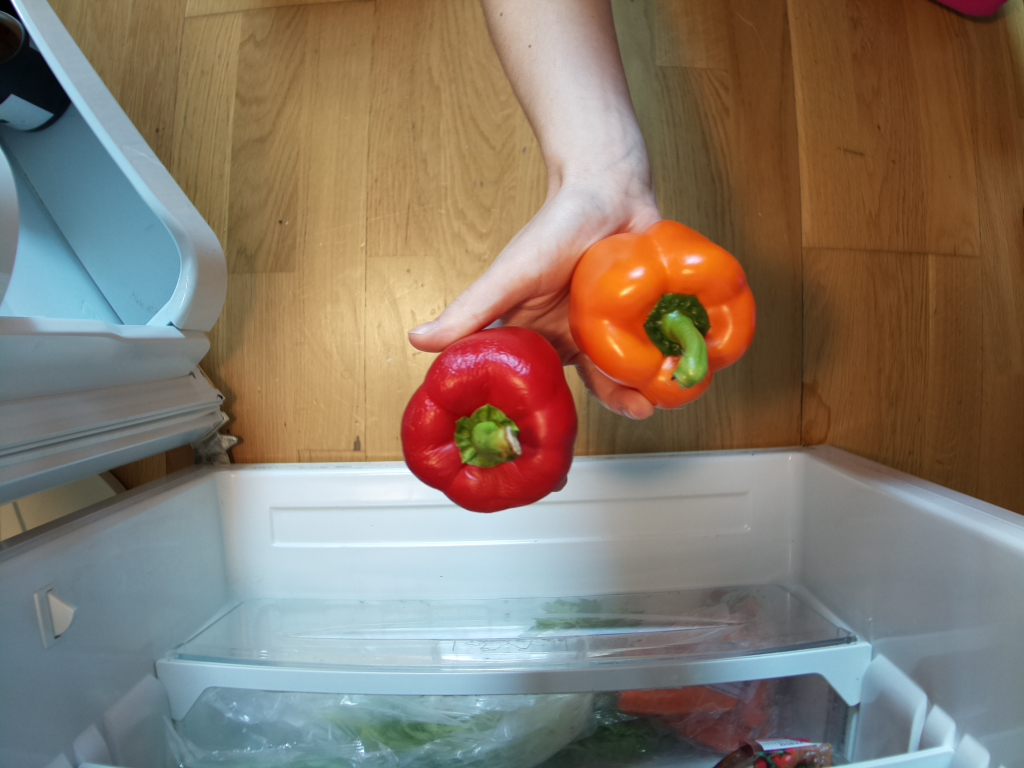pepper: (569, 217, 761, 414)
pepper-bad: (397, 324, 583, 514)
